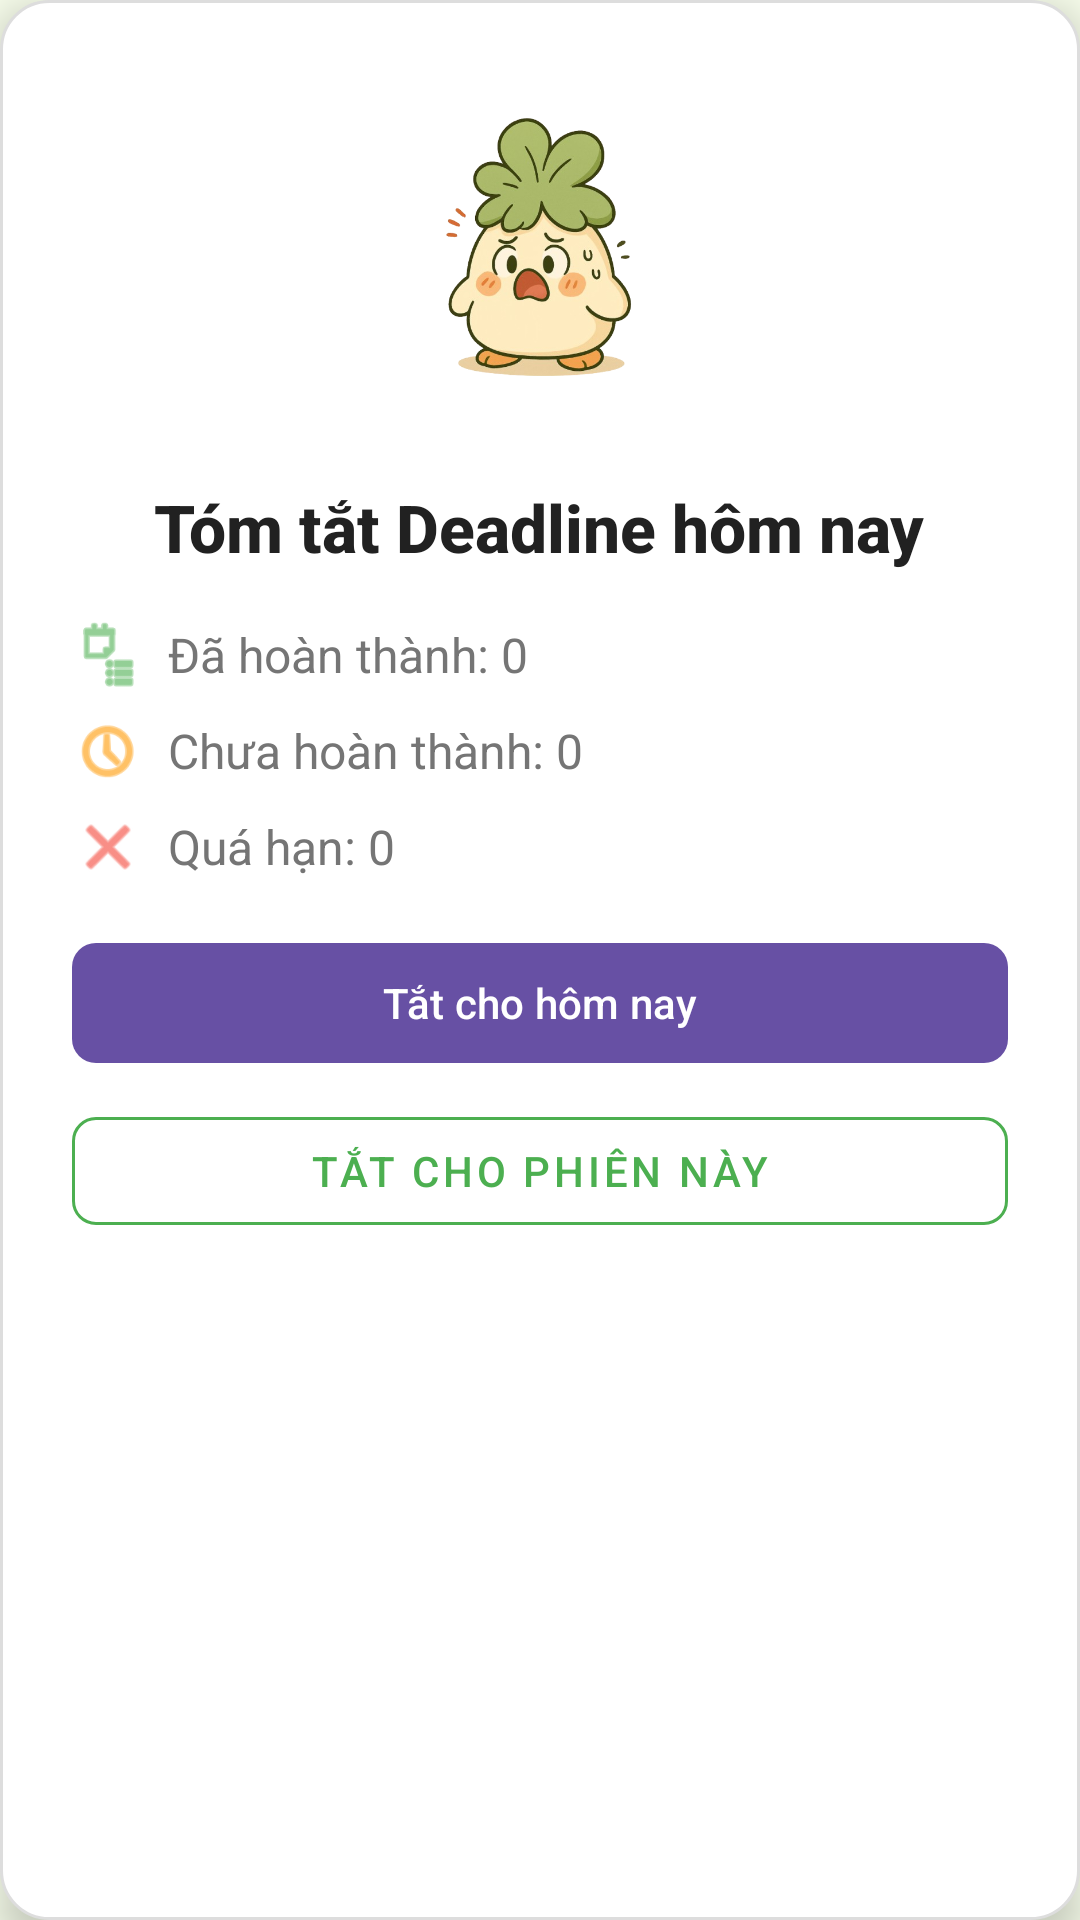

Icons on this 1080 × 1920 Android screen, each with the point to tap as (x=x, y=y):
agenda: (x=108, y=655)
close clear cancel: (x=108, y=846)
recent history: (x=107, y=751)
